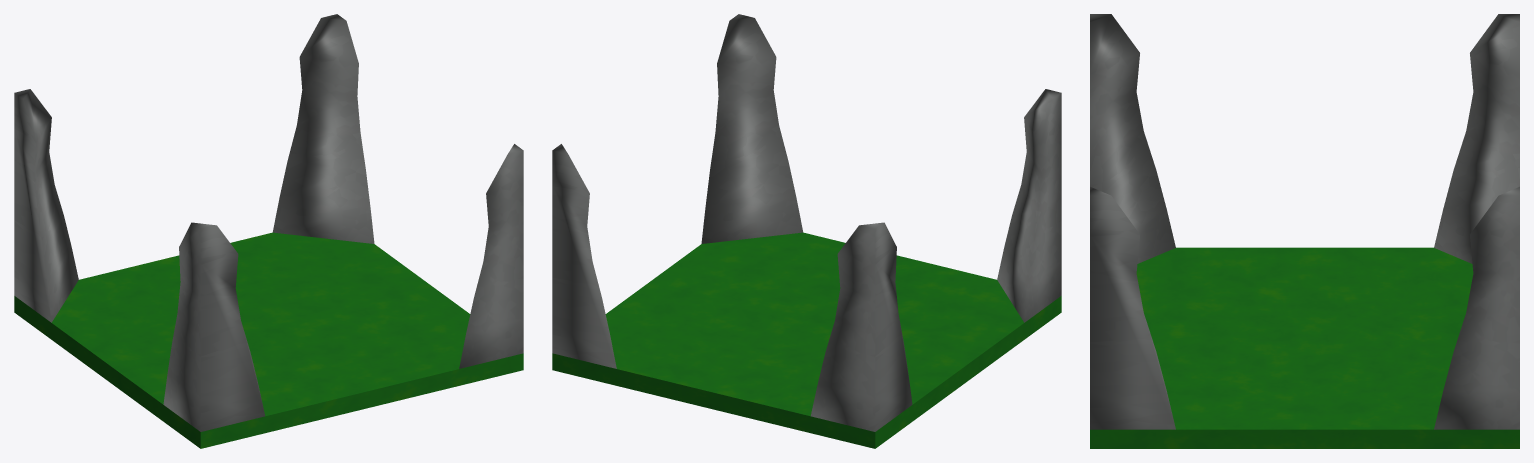
File: fourWayRoom.glb
3 views of the same model, side by side, from view 1: azimuth 30°, elevation 25°; view 2: azimuth 150°, elevation 25°; view 3: azimuth 270°, elevation 25° (orthographic). The views are drawn at different scales.
Parts seen in each view (by area): view 1: Floor.005, CornerInt.006, CornerInt.004, CornerInt.005, CornerInt.007; view 2: Floor.005, CornerInt.007, CornerInt.005, CornerInt.004, CornerInt.006; view 3: Floor.005, CornerInt.006, CornerInt.007, CornerInt.004, CornerInt.005.
Boxes of the visible parts, box(x1,y1,x2,y2) form: Floor.005: box(14, 232, 523, 448); CornerInt.006: box(272, 14, 374, 243); CornerInt.004: box(163, 222, 264, 431); CornerInt.005: box(14, 89, 78, 322); CornerInt.007: box(459, 144, 523, 368); Floor.005: box(552, 232, 1061, 448); CornerInt.007: box(701, 14, 803, 243); CornerInt.005: box(811, 222, 912, 431); CornerInt.004: box(997, 89, 1061, 322); CornerInt.006: box(552, 144, 616, 368); Floor.005: box(1090, 247, 1519, 448); CornerInt.006: box(1434, 186, 1519, 429); CornerInt.007: box(1090, 186, 1175, 429); CornerInt.004: box(1090, 14, 1175, 263); CornerInt.005: box(1434, 14, 1519, 263).
Bounding box in the file's own units: 10 × 6.5 × 10.
Materials: 2 (2 with a texture image).
